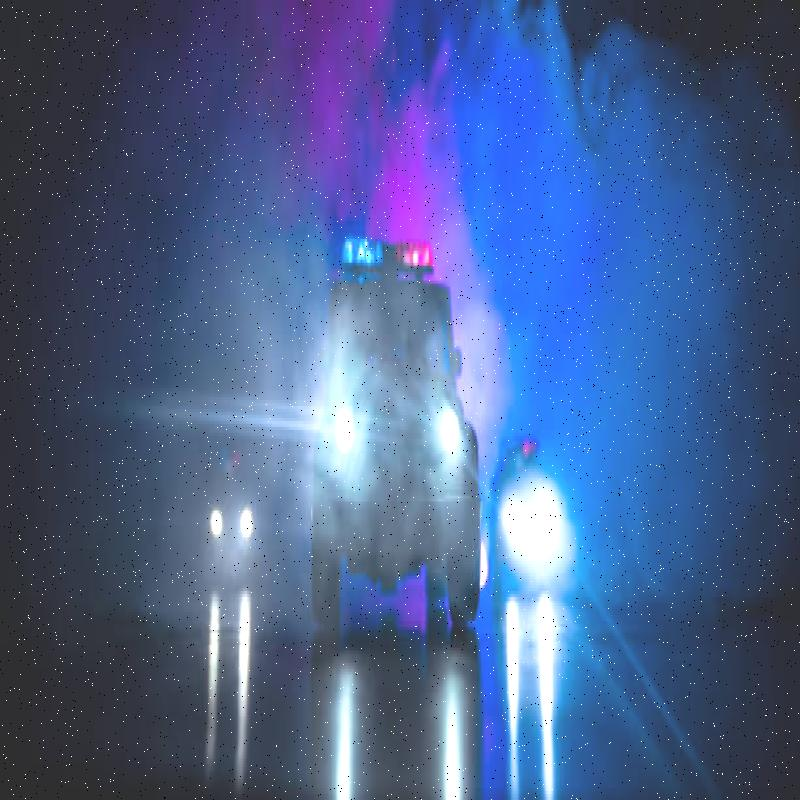AmbulanceSiren: (334, 200, 438, 281)
